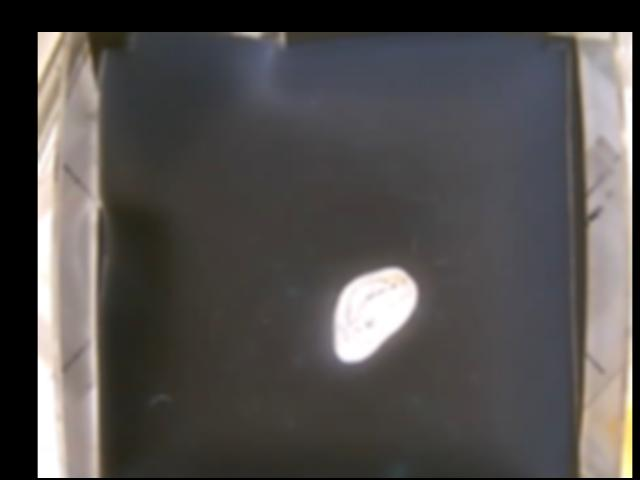Pebble: (331, 266, 417, 360)
